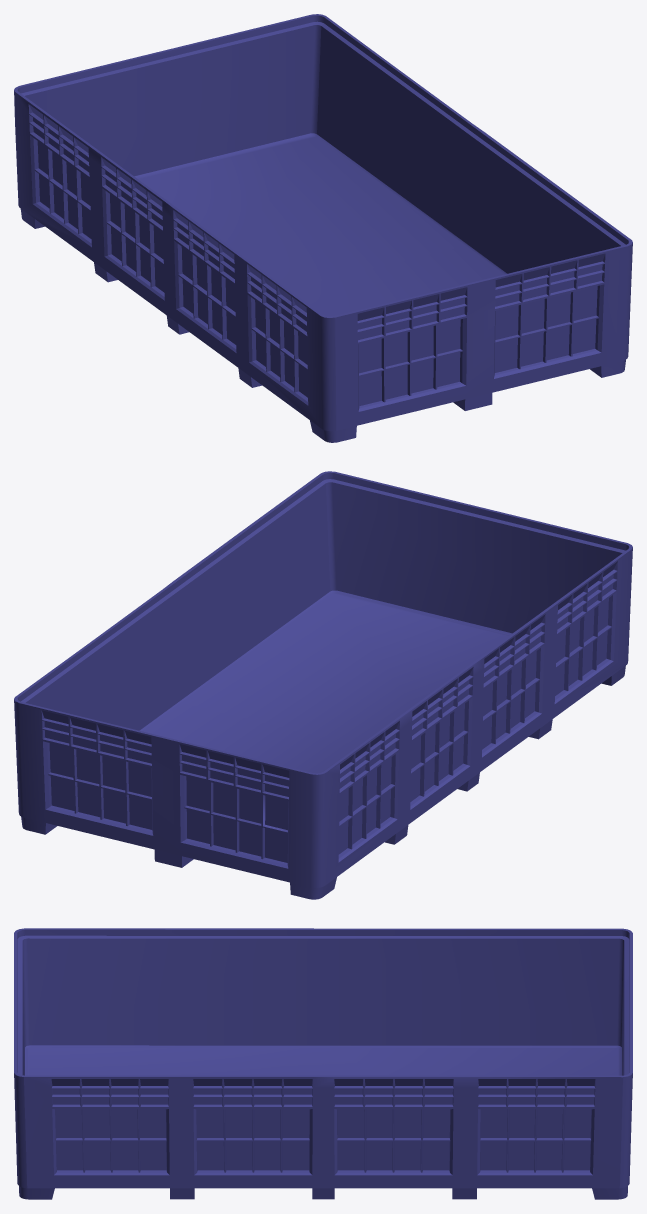
Rendered from mavikasa.fbx.
3 views of the same model, one above another, from view 1: azimuth 30°, elevation 25°; view 2: azimuth 150°, elevation 25°; view 3: azimuth 270°, elevation 25° (orthographic). The views are drawn at different scales.
Parts seen in each view (by area): view 1: SM_PalletCart_box_Internal:Mesh; view 2: SM_PalletCart_box_Internal:Mesh; view 3: SM_PalletCart_box_Internal:Mesh.
Boxes of the visible parts, <box> form: SM_PalletCart_box_Internal:Mesh: <box>14,14,632,442</box>; SM_PalletCart_box_Internal:Mesh: <box>14,471,632,899</box>; SM_PalletCart_box_Internal:Mesh: <box>14,928,632,1199</box>.
Bounding box in the file's own units: 87.72 × 34.53 × 154.
